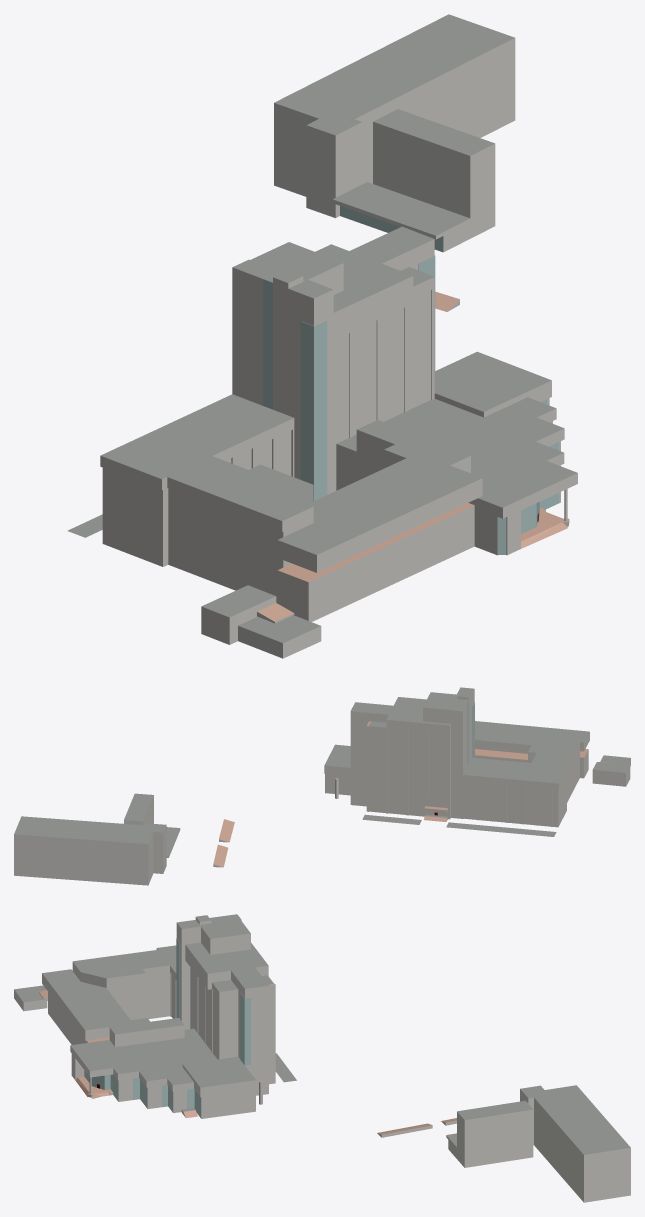
The model's file is gridID_83.dae.
3 views of the same model, one above another, from view 1: azimuth 30°, elevation 25°; view 2: azimuth 150°, elevation 25°; view 3: azimuth 270°, elevation 25° (orthographic). The views are drawn at different scales.
Visible parts, largest first — view 1: model_gridID_83_r5699952_004, model_gridID_83_w380054521, model_gridID_83_r5699952_001, model_gridID_83_r5699952_002; view 2: model_gridID_83_r5699952_004, model_gridID_83_w380054521, model_gridID_83_r5699952_001, model_gridID_83_r5699952, model_gridID_83_r5699952_003; view 3: model_gridID_83_r5699952_004, model_gridID_83_w380054521, model_gridID_83_r5699952_002.
Part boxes in pixels (x1,y1,x2,y2): model_gridID_83_r5699952_004: (100, 226, 577, 621); model_gridID_83_w380054521: (274, 14, 515, 252); model_gridID_83_r5699952_001: (201, 585, 276, 644); model_gridID_83_r5699952_002: (238, 615, 321, 658); model_gridID_83_r5699952_004: (324, 687, 589, 827); model_gridID_83_w380054521: (14, 793, 180, 885); model_gridID_83_r5699952_001: (592, 762, 630, 786); model_gridID_83_r5699952: (446, 822, 556, 836); model_gridID_83_r5699952_003: (362, 814, 421, 824); model_gridID_83_r5699952_004: (42, 914, 275, 1118); model_gridID_83_w380054521: (446, 1085, 630, 1202); model_gridID_83_r5699952_002: (14, 985, 47, 1011).
Bounding box in the file's own units: 145 × 176 × 40.44.
